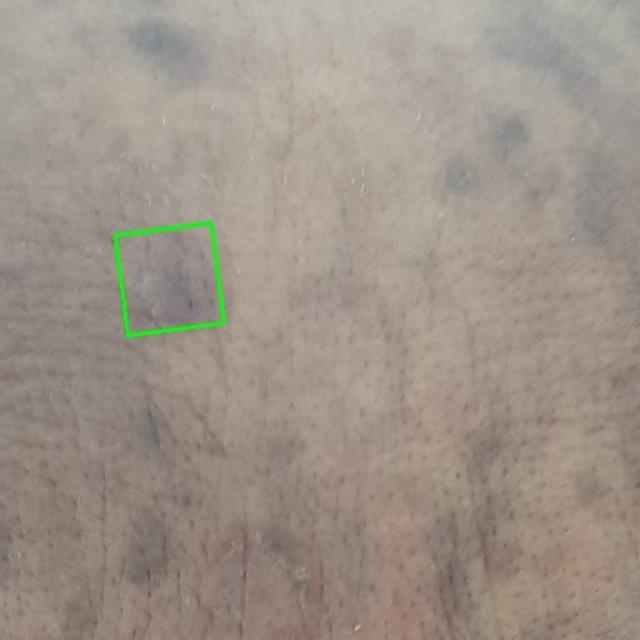Tinea Corporis: (116, 224, 224, 335)
